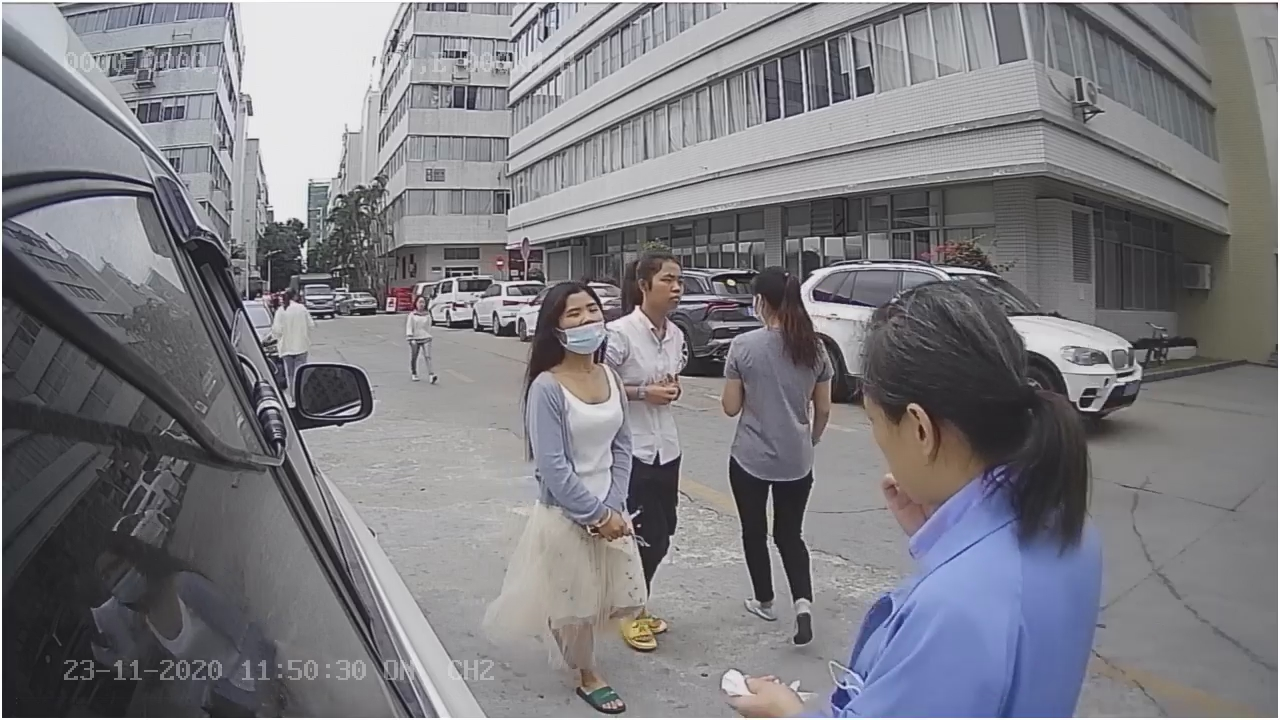person: (510, 278, 636, 715), (721, 260, 834, 645)
